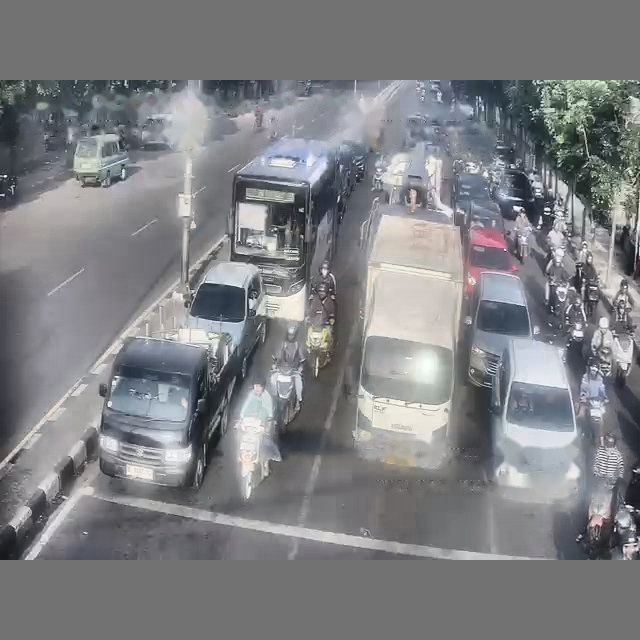Bis: (228, 138, 338, 321)
Mobil: (99, 329, 235, 489), (491, 339, 583, 504), (186, 262, 267, 378), (464, 272, 539, 387), (465, 227, 518, 296), (494, 169, 535, 218), (461, 201, 507, 241), (140, 114, 177, 149), (453, 172, 490, 206), (343, 140, 368, 181), (338, 143, 356, 197), (493, 141, 515, 167)
Motor: (238, 417, 269, 500), (584, 480, 616, 559), (272, 356, 301, 434), (613, 504, 639, 559), (613, 320, 634, 386), (306, 322, 331, 377), (548, 280, 568, 323), (584, 279, 599, 320), (516, 225, 531, 262)
Truk: (352, 205, 462, 467)
